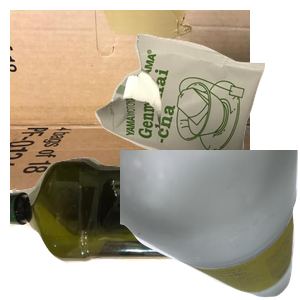cardboard: (10, 10, 250, 190)
glass: (120, 150, 300, 300)
plastic: (10, 149, 250, 300)
trash: (93, 31, 300, 205)
